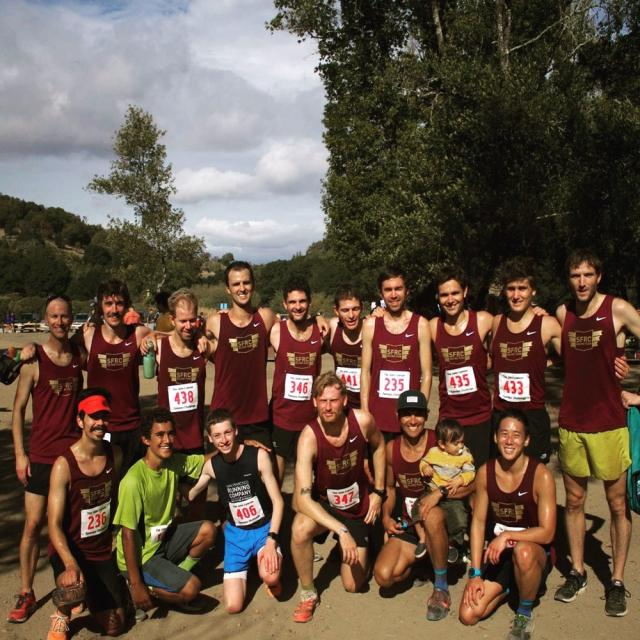body: (138, 259, 332, 474), (18, 276, 210, 486), (109, 403, 276, 623), (546, 245, 640, 618), (4, 291, 90, 624), (286, 366, 389, 624), (371, 386, 480, 624), (456, 404, 560, 640), (176, 407, 285, 614), (46, 385, 128, 640), (266, 274, 334, 565), (136, 282, 217, 524), (485, 259, 563, 467), (426, 262, 500, 471), (358, 263, 434, 442), (409, 415, 477, 564), (318, 280, 386, 410), (619, 378, 640, 516), (460, 290, 510, 316), (628, 303, 640, 362), (403, 300, 442, 318), (85, 295, 104, 328), (3, 344, 26, 366), (121, 304, 142, 325), (368, 298, 386, 319), (430, 350, 442, 378), (195, 312, 208, 329), (148, 308, 158, 330), (3, 313, 11, 334), (9, 311, 16, 334), (314, 310, 330, 320), (275, 312, 290, 322)
